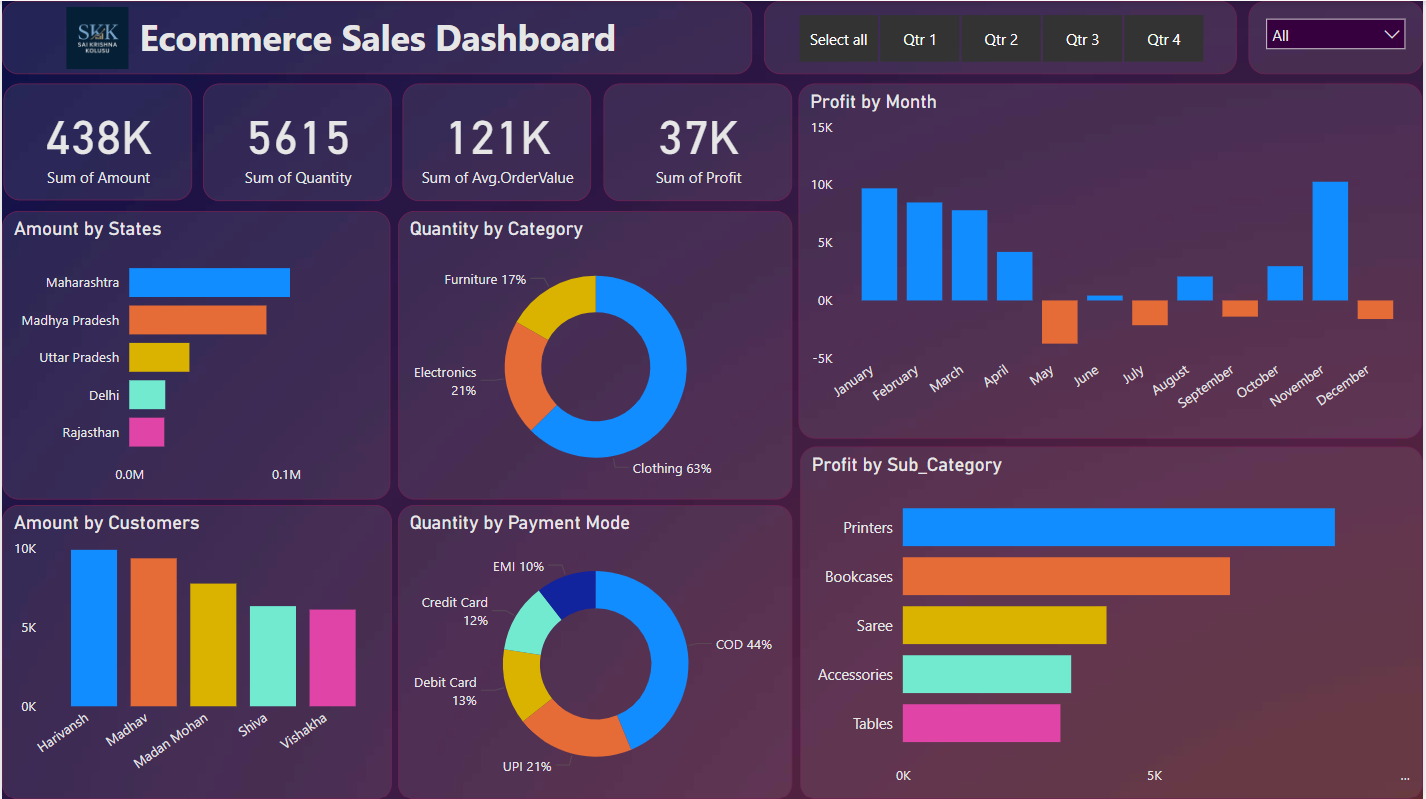

The page's visual inventory and layout, read from the dashboard file:
{"tool":"powerbi","page":{"name":"Sales","canvas":[1280,720],"ordinal":0},"visuals":[{"type":"textbox","box":[0,0,675.7,65.7],"z":0},{"type":"columnChart","title":"Profit by Month","fields":{"Y":["Details.Profit"],"Category":["Orders.Order Date.Variation.Date Hierarchy.Month"]},"box":[718,74.3,562,320],"z":1000},{"type":"barChart","title":"Profit by Sub_Category","fields":{"Y":["Details.Profit"],"Category":["Details.Sub-Category"]},"box":[718.6,401.4,561.4,318.6],"z":2000},{"type":"donutChart","title":"Quantity by Category","fields":{"Category":["Details.Category"],"Y":["Details.Quantity"]},"box":[357.1,188.6,355,260],"z":3000},{"type":"donutChart","title":"Quantity by Payment Mode","fields":{"Y":["Details.Quantity"],"Category":["Details.PaymentMode"]},"box":[357.1,454.3,355,265.7],"z":4000},{"type":"card","fields":{"Values":["Details.Amount"]},"box":[0.9,74.6,170,105],"z":5000},{"type":"card","fields":{"Values":["Details.Quantity"]},"box":[181.1,74.2,170,105.7],"z":6000},{"type":"card","fields":{"Values":["Details.Profit"]},"box":[541.4,74.2,170,105.7],"z":7000},{"type":"card","fields":{"Values":["Details.Avg.OrderValue"]},"box":[361.2,74.2,170,105.7],"z":8000},{"type":"barChart","title":"Amount by States","fields":{"Category":["Orders.State"],"Y":["Details.Amount"]},"box":[0.4,188.6,350,260],"z":9000},{"type":"columnChart","title":"Amount by Customers","fields":{"Y":["Details.Amount"],"Category":["Orders.CustomerName"]},"box":[0,454.3,351,265.7],"z":10000},{"type":"slicer","fields":{"Values":["Orders.Order Date.Variation.Date Hierarchy.Quarter"]},"box":[687.1,0,425.7,65.7],"z":11000},{"type":"slicer","fields":{"Values":["Orders.State"]},"box":[1122.9,0,157.1,65.7],"z":12000},{"type":"image","box":[0,0,171.7,66.2],"z":12001}]}

Visuals, with their boxes in screenshot pixels (x1, y1, x2, y2), scaled from the page's 1280x720 canvas onto the 1426x799 screenshot:
textbox: {"left": 0, "top": 0, "right": 753, "bottom": 73}
"Profit by Month" columnChart: {"left": 800, "top": 82, "right": 1425, "bottom": 438}
"Profit by Sub_Category" barChart: {"left": 801, "top": 445, "right": 1425, "bottom": 798}
"Quantity by Category" donutChart: {"left": 398, "top": 209, "right": 793, "bottom": 498}
"Quantity by Payment Mode" donutChart: {"left": 398, "top": 504, "right": 793, "bottom": 798}
card - Details.Amount: {"left": 1, "top": 83, "right": 190, "bottom": 199}
card - Details.Quantity: {"left": 202, "top": 82, "right": 391, "bottom": 200}
card - Details.Profit: {"left": 603, "top": 82, "right": 793, "bottom": 200}
card - Details.Avg.OrderValue: {"left": 402, "top": 82, "right": 592, "bottom": 200}
"Amount by States" barChart: {"left": 0, "top": 209, "right": 390, "bottom": 498}
"Amount by Customers" columnChart: {"left": 0, "top": 504, "right": 391, "bottom": 798}
slicer - Orders.Order Date.Variation.Date Hierarchy.Quarter: {"left": 765, "top": 0, "right": 1240, "bottom": 73}
slicer - Orders.State: {"left": 1251, "top": 0, "right": 1425, "bottom": 73}
image: {"left": 0, "top": 0, "right": 191, "bottom": 73}
